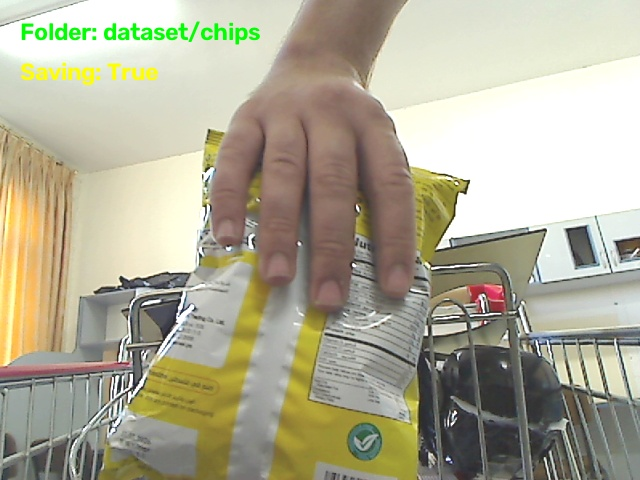chips: (100, 169, 466, 479)
